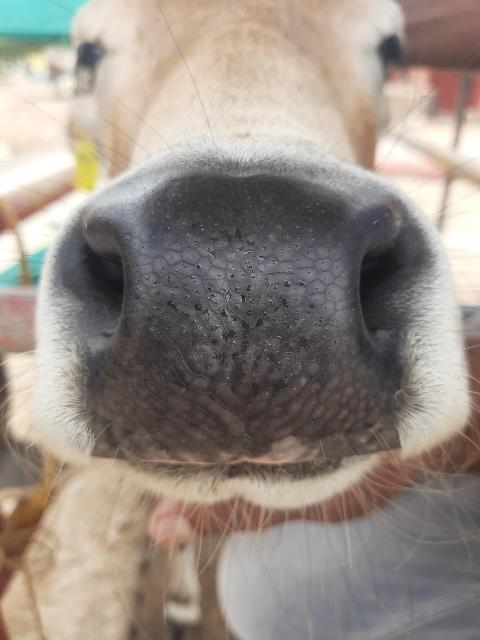Muzzle: (116, 186, 376, 442)
